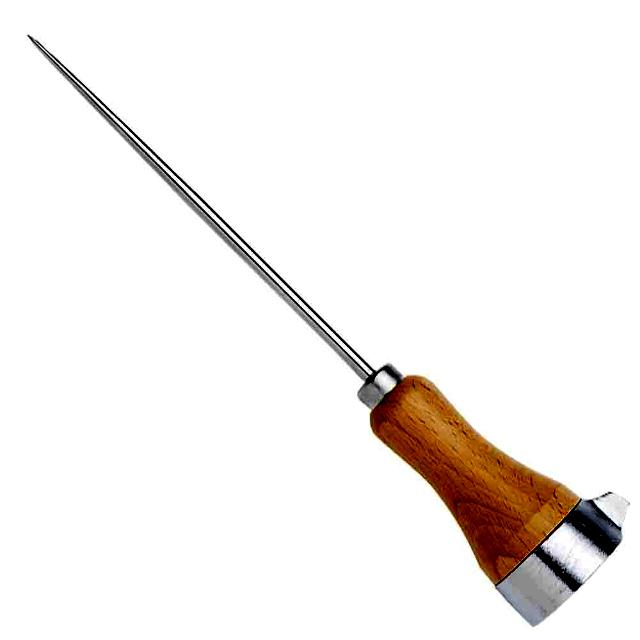ice pick: (28, 35, 630, 628)
